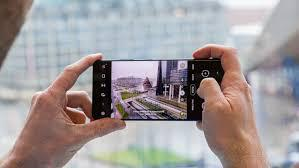Hand: (21, 52, 120, 155), (197, 47, 263, 142)
Smartphone: (96, 61, 220, 124)
